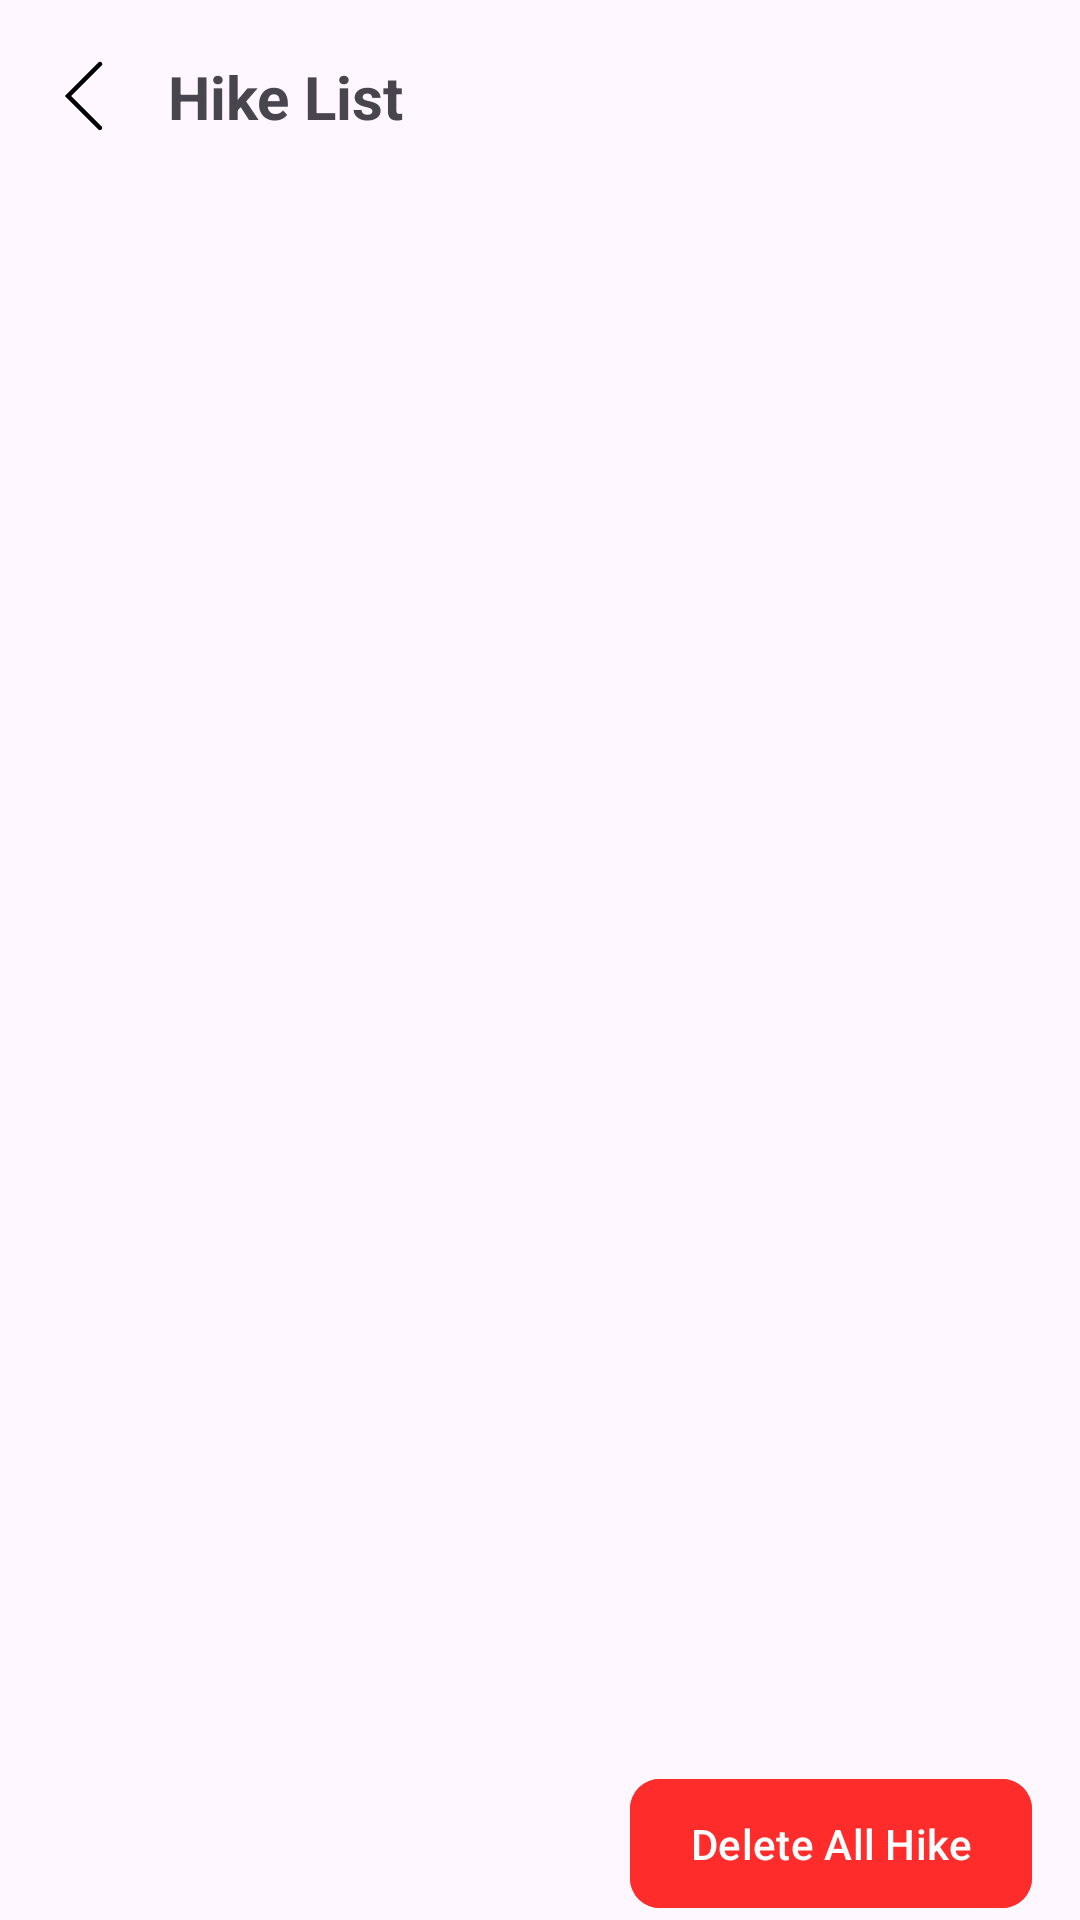

Named icons in this screenshot (1080px x 1920px) and their bounding boxes, (x1, y1, x2, y2):
back: (65, 61, 103, 130)
